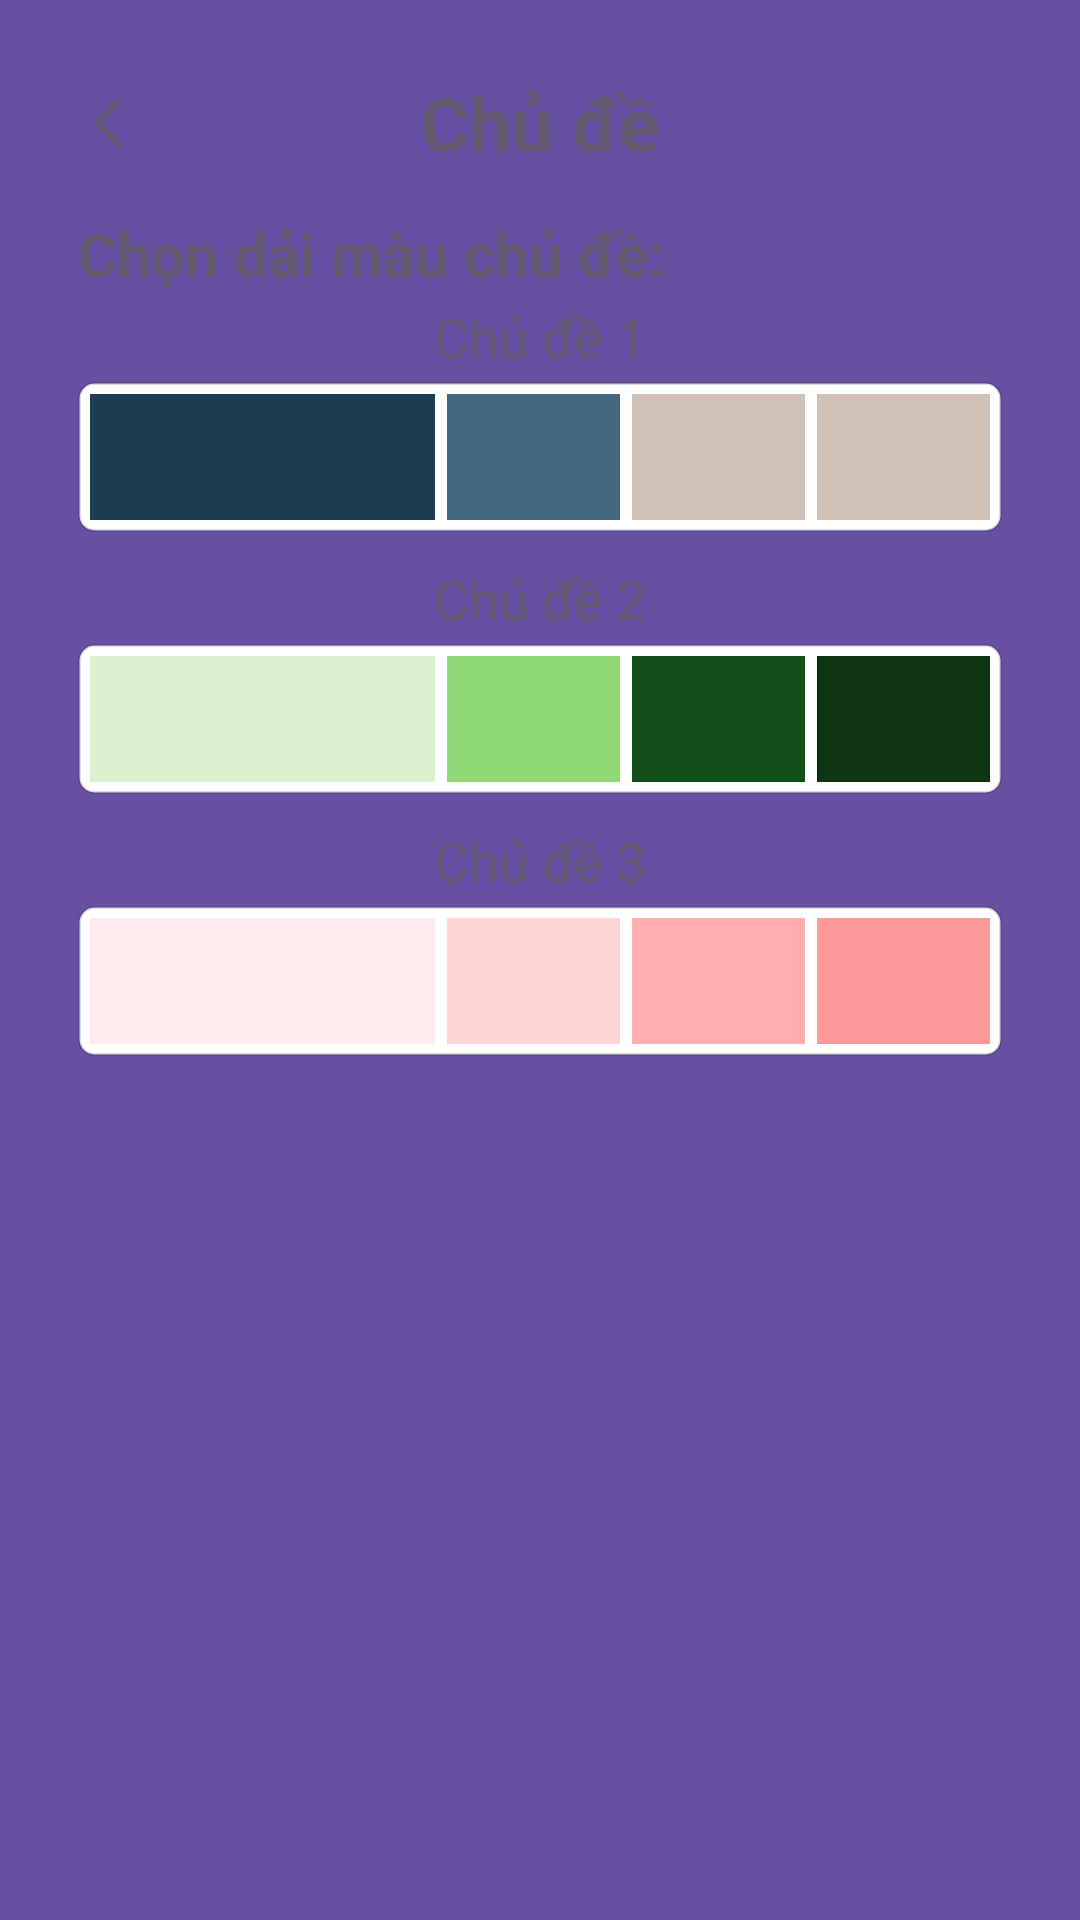

Where icons sit on this 1080x1920 app screen, as [x1, y1, x2, y2]:
back: [93, 98, 122, 148]
